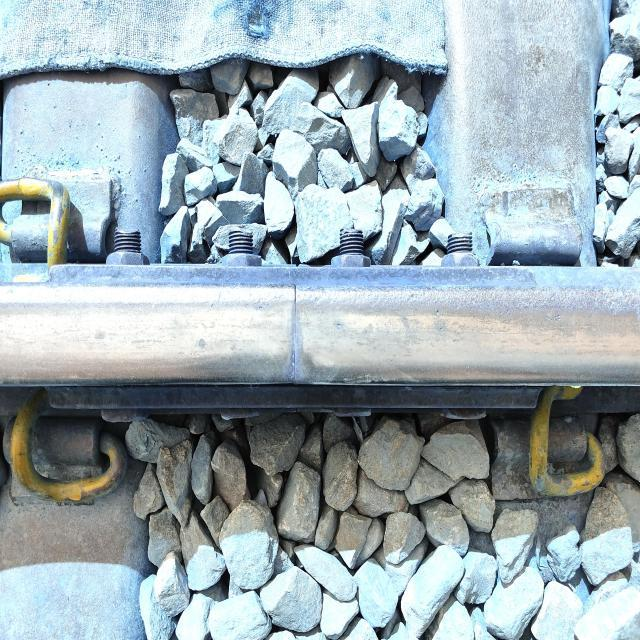Good Fasteners: (0, 163, 173, 291), (481, 392, 613, 534), (0, 405, 142, 523)
Good Joint: (0, 221, 630, 480)
Missing Fastener: (461, 164, 601, 270)
